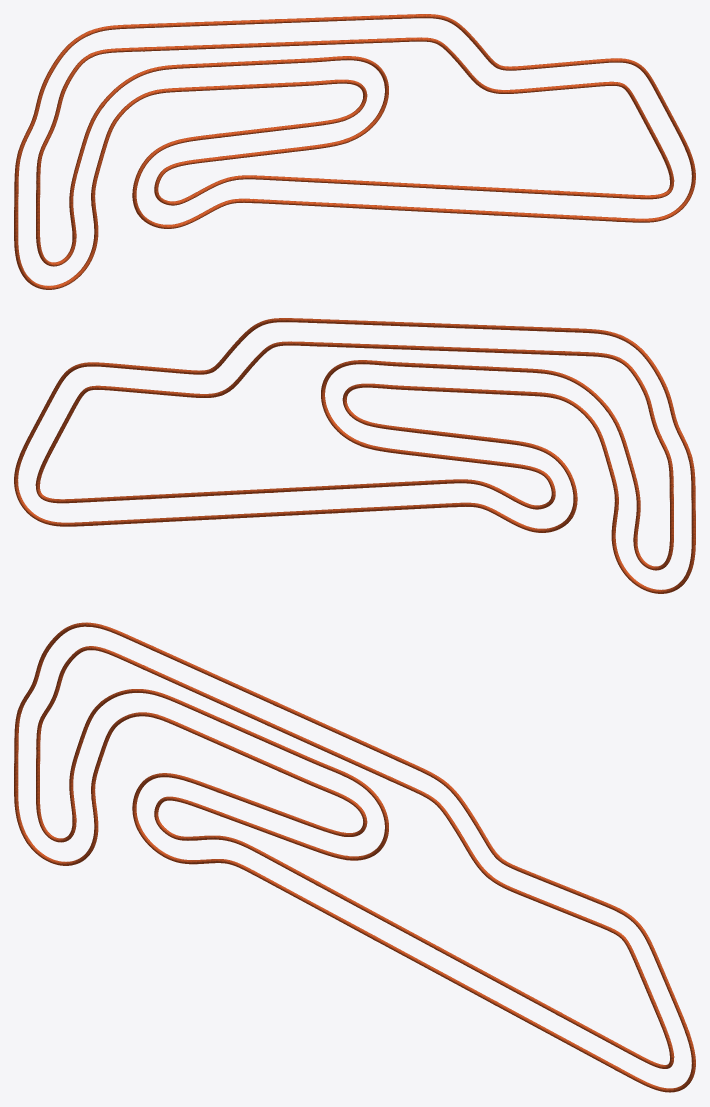
The model's file is ducts.obj.
The picture shows the model from 3 angles, top to bottom: view 1: azimuth 30°, elevation 25°; view 2: azimuth 150°, elevation 25°; view 3: azimuth 330°, elevation 25°; orthographic projection.
Bounding box in the file's own units: 41.26 × 19.07 × 0.2355.
1 material, 1 textured.
